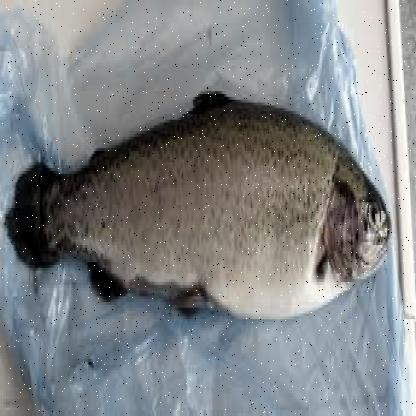fish: (6, 84, 392, 314)
